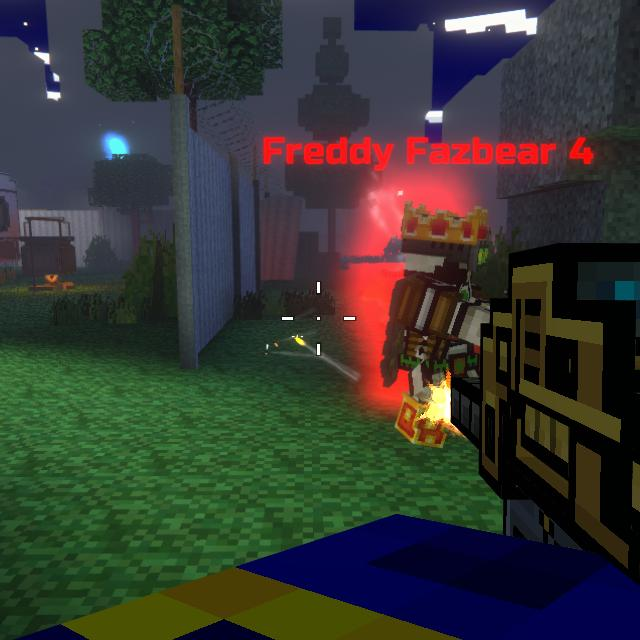Enemy: (389, 218, 483, 452)
